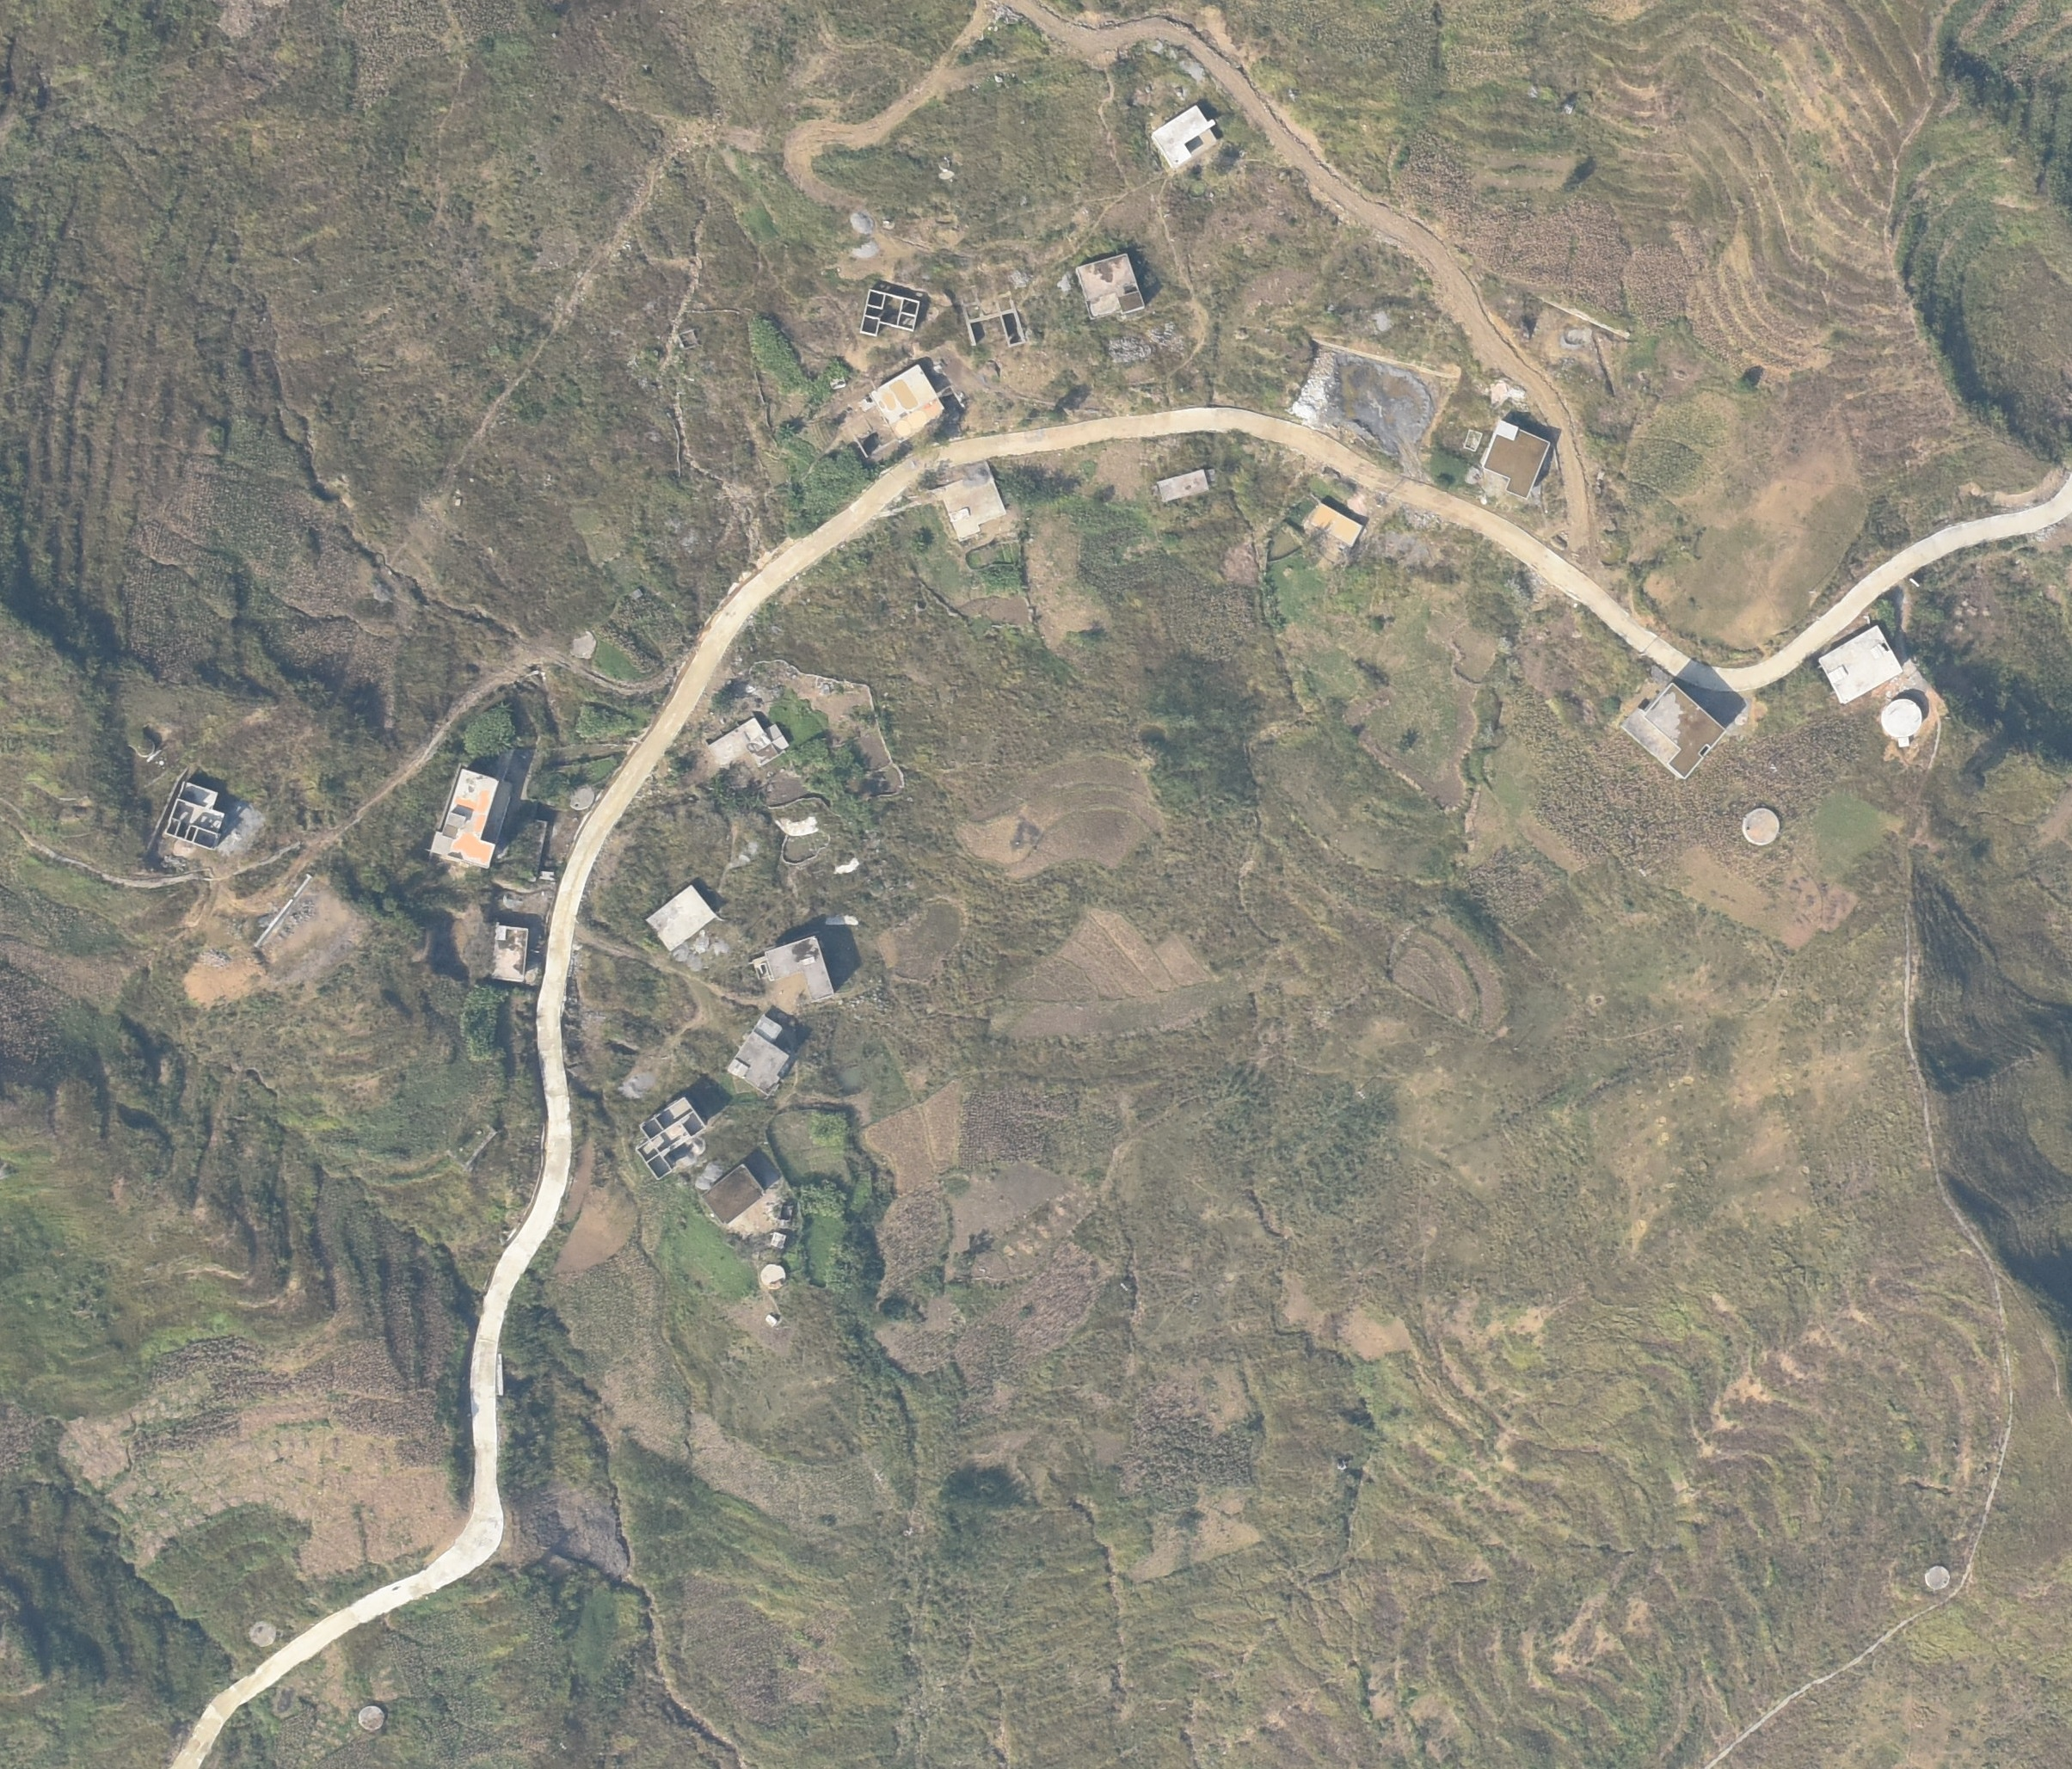building: (1623, 681, 1725, 779), (428, 767, 504, 867), (1818, 625, 1898, 704), (635, 1095, 704, 1179), (1481, 421, 1549, 502), (868, 369, 939, 440), (647, 883, 719, 951), (728, 1016, 790, 1093), (763, 935, 837, 999), (942, 472, 1007, 542), (1077, 251, 1147, 316), (165, 779, 226, 848), (1153, 102, 1216, 167), (711, 716, 784, 769), (704, 1167, 767, 1225), (860, 288, 921, 340), (489, 923, 530, 985), (1305, 502, 1361, 544), (1158, 469, 1214, 502), (760, 1262, 786, 1292), (772, 1230, 788, 1251), (781, 1204, 793, 1221)
quarry: (1293, 344, 1435, 455)
well: (1883, 698, 1925, 739), (1744, 809, 1781, 846), (247, 1620, 277, 1648), (568, 777, 593, 811), (358, 1704, 386, 1732), (568, 627, 593, 658), (1925, 1564, 1951, 1590)
